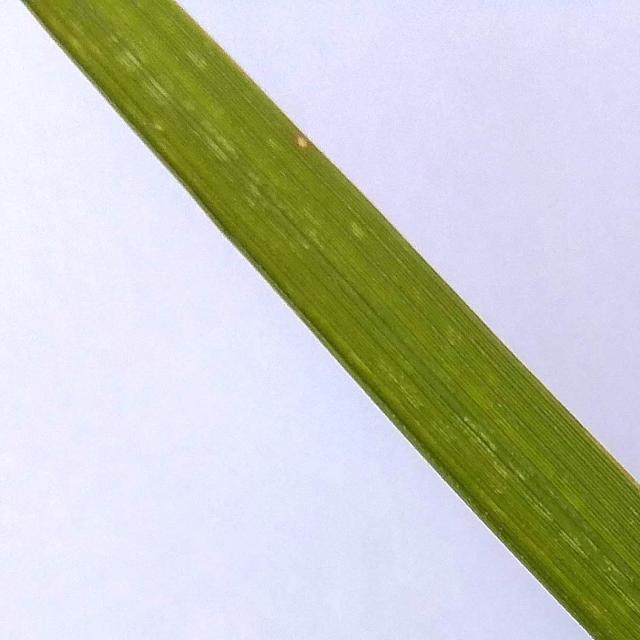Blast: (296, 132, 308, 152)
